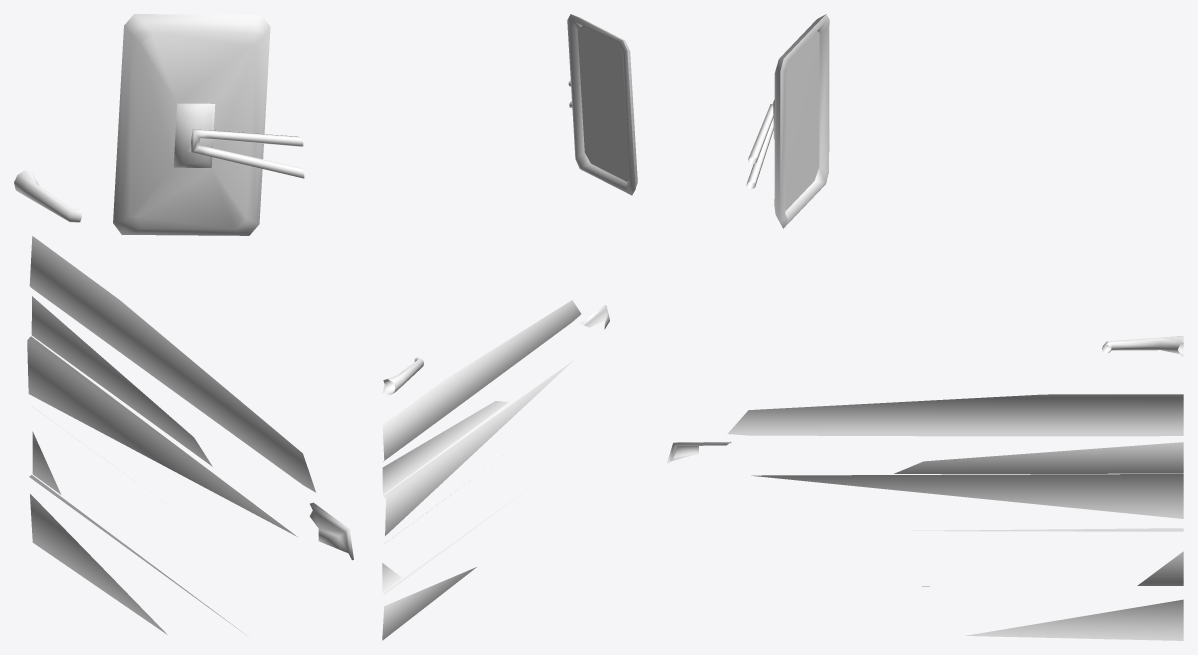
3 views of the same model, side by side, from view 1: azimuth 30°, elevation 25°; view 2: azimuth 150°, elevation 25°; view 3: azimuth 270°, elevation 25° (orthographic). The views are drawn at different scales.
Size of the model in its own units: 0.2026 by 0.9967 by 0.8057.
1 material, 1 textured.
